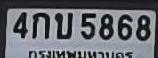4: (12, 11, 26, 38)
5: (80, 12, 95, 39)
6: (117, 13, 131, 39)
8: (135, 14, 149, 40), (98, 13, 112, 39)
A01: (31, 12, 49, 38)
A26: (54, 12, 72, 38)
